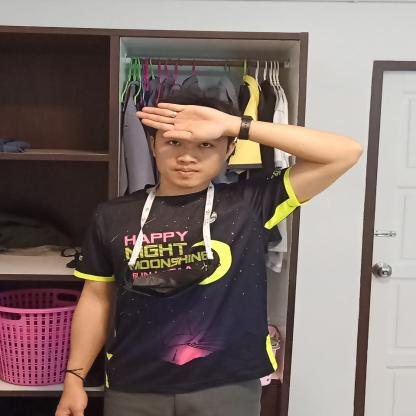Sick: (81, 78, 292, 178)
